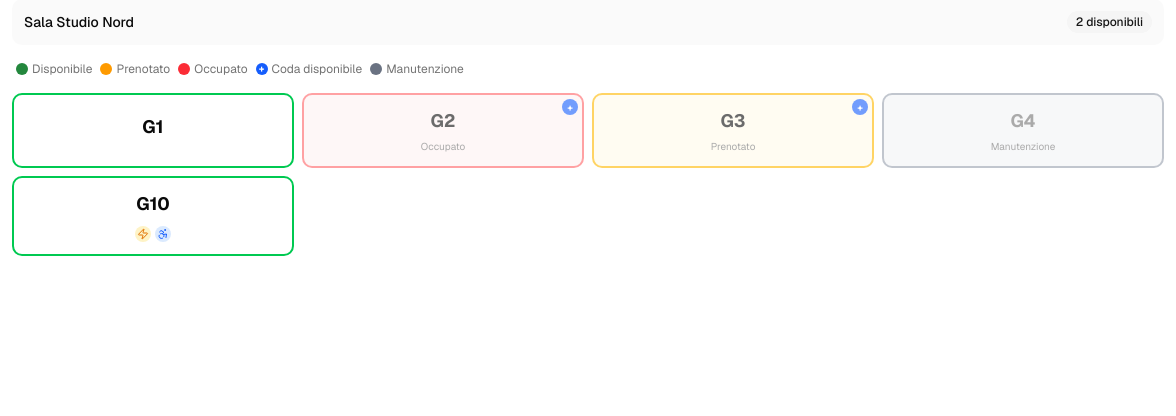
Test: MobilePostiGrid › [TC-UI-GRID-004] un posto occupato apre la coda e chiede al server se si e' gia' in lista
Click the button with aria-label "G2 - Occupato": (443, 130) x1=302 y1=93 x2=584 y2=168
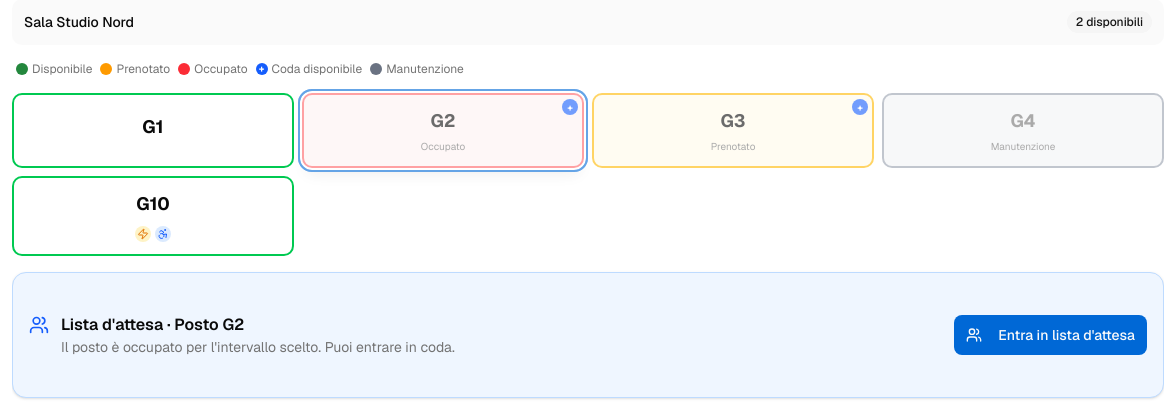
Expected: the heading "Lista d'attesa · Posto G2" is shown, x1=61 y1=314 x2=244 y2=335
Expected: the text "Il posto è occupato per l'intervallo scelto. Puoi entrare in coda." is shown, x1=61 y1=337 x2=455 y2=357
